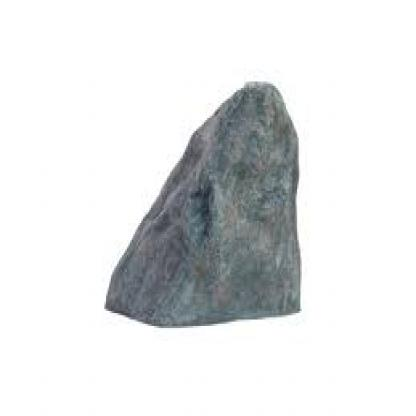Metamorphic_Quartize: (101, 51, 336, 339)
